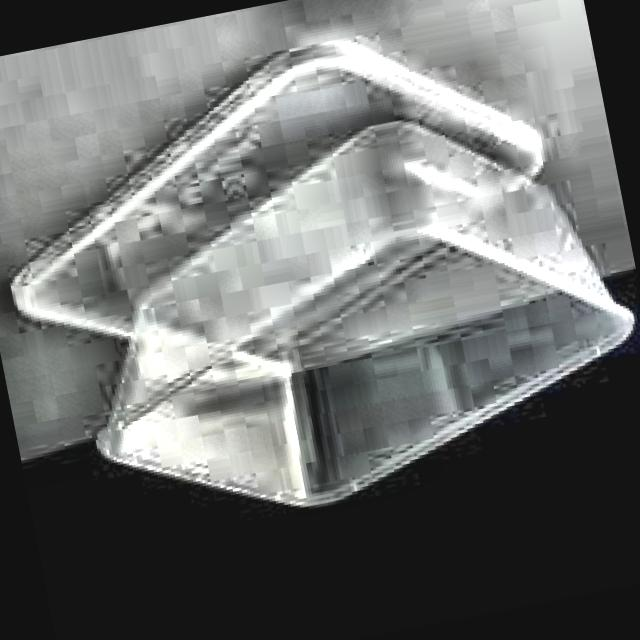plastic container: (14, 42, 634, 506)
